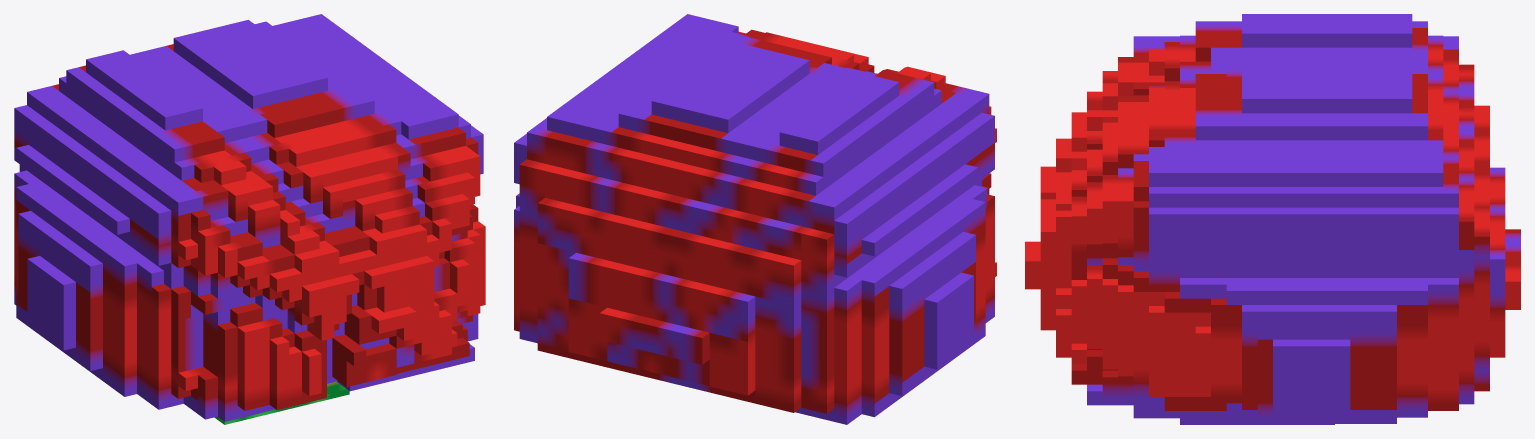
Rendered from Matrix_12.fbx.
The picture shows the model from 3 angles, left to right: view 1: azimuth 30°, elevation 25°; view 2: azimuth 150°, elevation 25°; view 3: azimuth 270°, elevation 25°; orthographic projection. The views are drawn at different scales.
Visible parts, largest first — view 1: Matrix_12; view 2: Matrix_12; view 3: Matrix_12.
Part boxes in pixels (bbox=[...]): Matrix_12: bbox=[14, 14, 485, 424]; Matrix_12: bbox=[514, 14, 996, 424]; Matrix_12: bbox=[1025, 14, 1520, 424].
Size of the model in its own units: 32 by 23 by 32.
